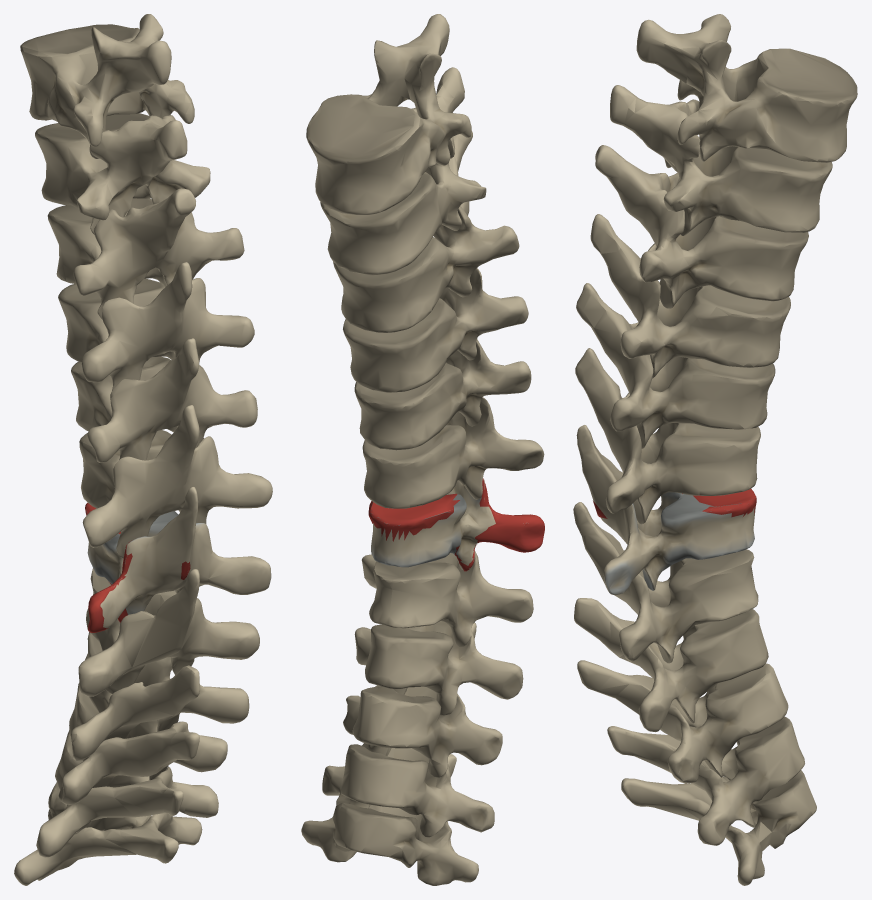
Rendered from vertebrae-thoracicae.glb.
3 views of the same model, side by side, from view 1: azimuth 30°, elevation 25°; view 2: azimuth 150°, elevation 25°; view 3: azimuth 270°, elevation 25° (orthographic). The views are drawn at different scales.
Visible parts, largest first — view 1: FJ3156, FJ3173, FJ3154, FJ3175, FJ3155, FJ3174, FJ3169, FJ3171, FJ3166, FJ3163, FJ3160, FJ3158 (+3 smaller); view 2: FJ3156, FJ3154, FJ3175, FJ3155, FJ3173, FJ3169, FJ3174, FJ3166, FJ3163, FJ3160, FJ3158, vertebrae-thoracicae__corpus-foveae-costales (+3 smaller); view 3: FJ3156, FJ3155, FJ3154, FJ3175, FJ3173, FJ3174, FJ3169, FJ3166, FJ3163, FJ3160, FJ3171, FJ3158 (+2 smaller).
Part boxes in pixels (<box>): FJ3156: <box>20,14,194,158</box>; FJ3173: <box>79,405,272,558</box>; FJ3154: <box>47,188,244,319</box>; FJ3175: <box>58,262,254,390</box>; FJ3155: <box>35,113,210,234</box>; FJ3174: <box>71,338,257,462</box>; FJ3169: <box>78,568,259,696</box>; FJ3171: <box>100,486,271,627</box>; FJ3166: <box>71,632,249,760</box>; FJ3163: <box>58,683,227,804</box>; FJ3160: <box>36,730,218,857</box>; FJ3158: <box>14,782,202,885</box>; FJ3156: <box>306,14,471,214</box>; FJ3154: <box>333,131,519,332</box>; FJ3175: <box>343,201,528,392</box>; FJ3155: <box>320,67,486,275</box>; FJ3173: <box>362,397,544,508</box>; FJ3169: <box>361,550,533,647</box>; FJ3174: <box>354,339,531,450</box>; FJ3166: <box>354,621,523,715</box>; FJ3163: <box>343,622,502,777</box>; FJ3160: <box>322,744,494,837</box>; FJ3158: <box>301,754,478,885</box>; vertebrae-thoracicae__corpus-foveae-costales: <box>371,494,495,567</box>; FJ3156: <box>636,14,857,162</box>; FJ3155: <box>610,85,832,235</box>; FJ3154: <box>595,145,808,308</box>; FJ3175: <box>590,214,790,378</box>; FJ3173: <box>575,348,760,524</box>; FJ3174: <box>576,283,775,448</box>; FJ3169: <box>573,502,758,663</box>; FJ3166: <box>574,598,768,732</box>; FJ3163: <box>577,660,788,783</box>; FJ3160: <box>607,716,804,845</box>; FJ3171: <box>580,425,712,595</box>; FJ3158: <box>621,770,816,885</box>.
Bounding box in the file's own units: 73.7 × 327 × 101.
